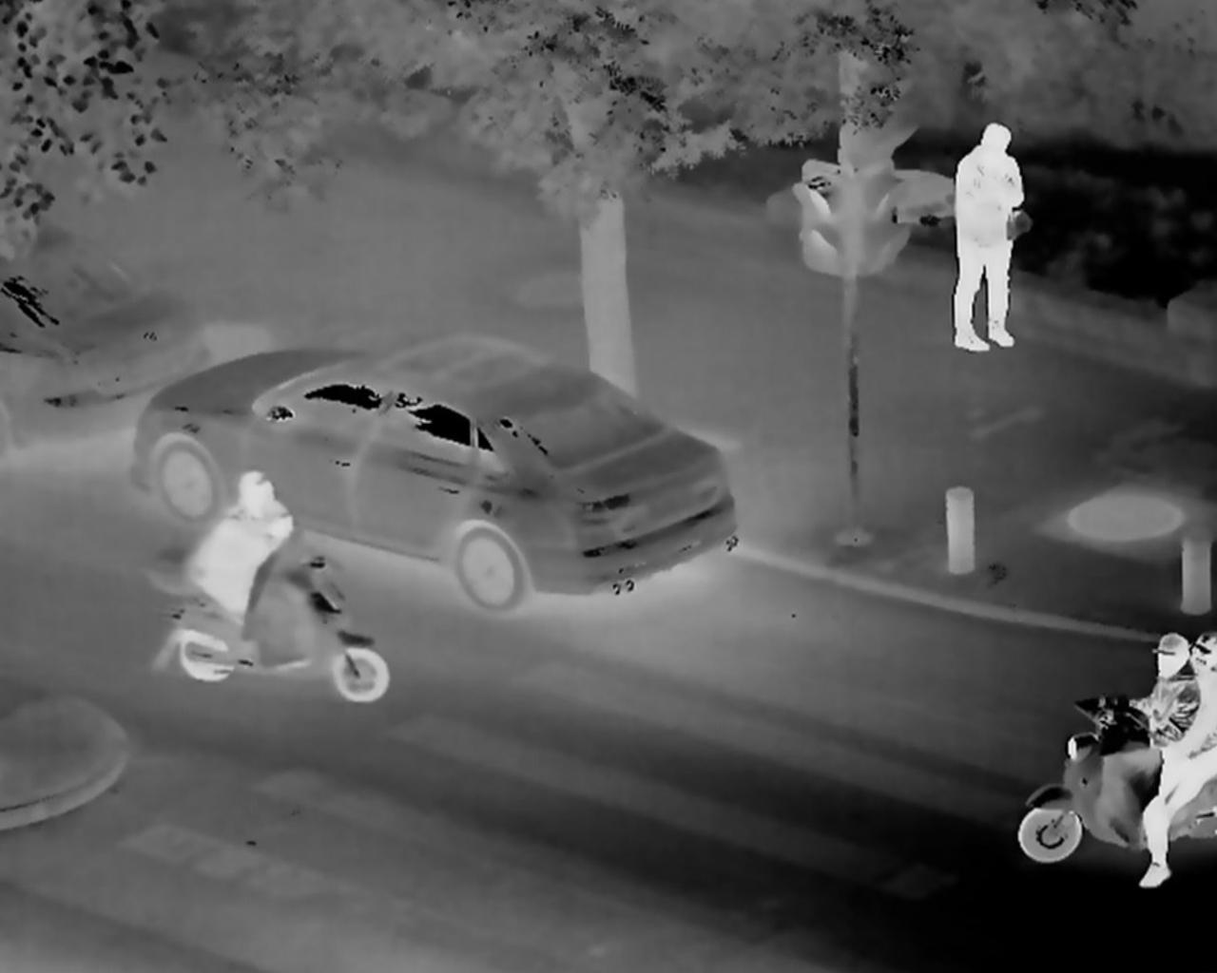person: (1122, 619, 1217, 891), (942, 118, 1040, 355), (187, 461, 308, 631)
